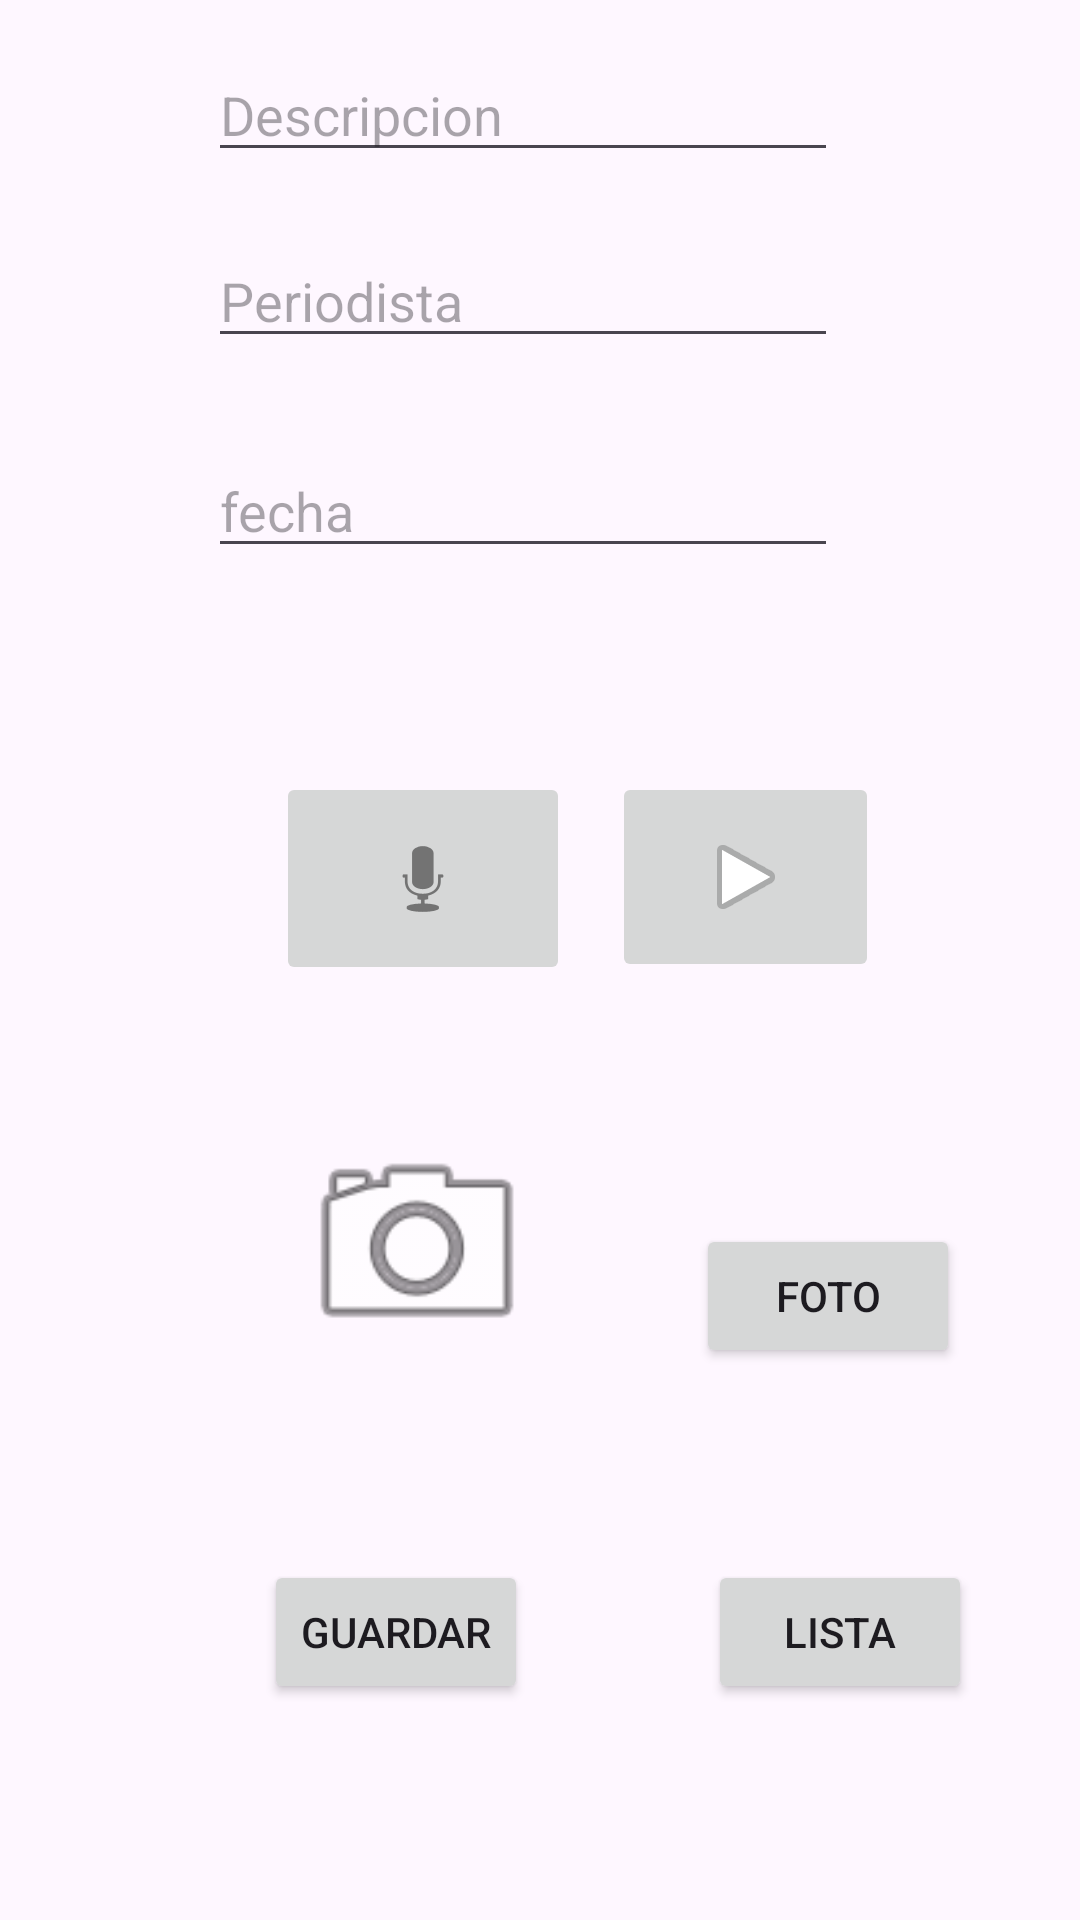

Icon bounding boxes for this 1080x1920 phone screenshot, format {"left": x1, "top": y1, "right": x2, "bottom": y2}:
camera: {"left": 321, "top": 1164, "right": 513, "bottom": 1317}
play: {"left": 624, "top": 790, "right": 867, "bottom": 964}
speak now: {"left": 288, "top": 790, "right": 558, "bottom": 967}
